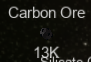Carbon: (8, 6, 87, 58)
